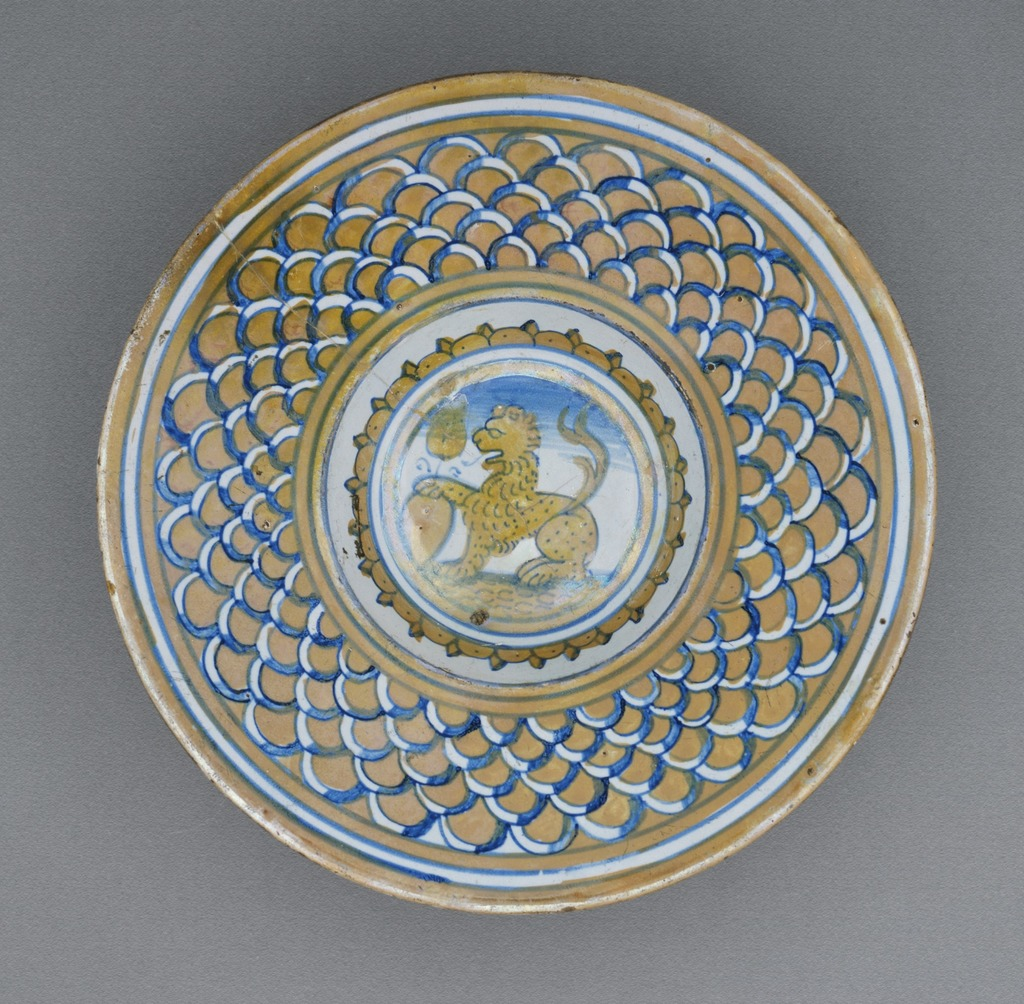plate: (82, 56, 941, 890)
